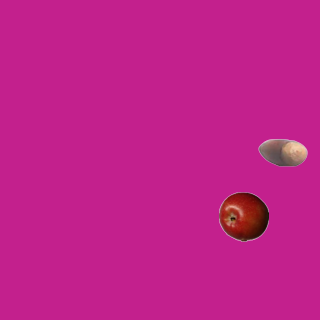Apple Braeburn: (218, 191, 268, 241)
Hazelnut: (257, 127, 307, 177)
